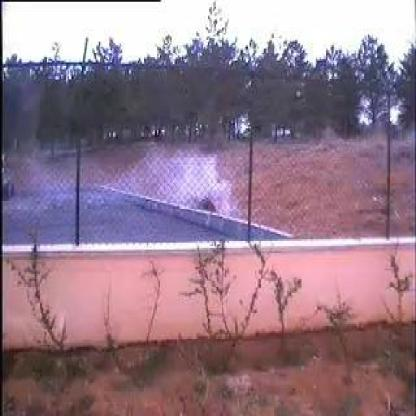-: (31, 150, 238, 240)
